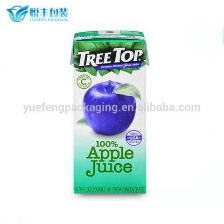carton: (67, 28, 151, 202)
